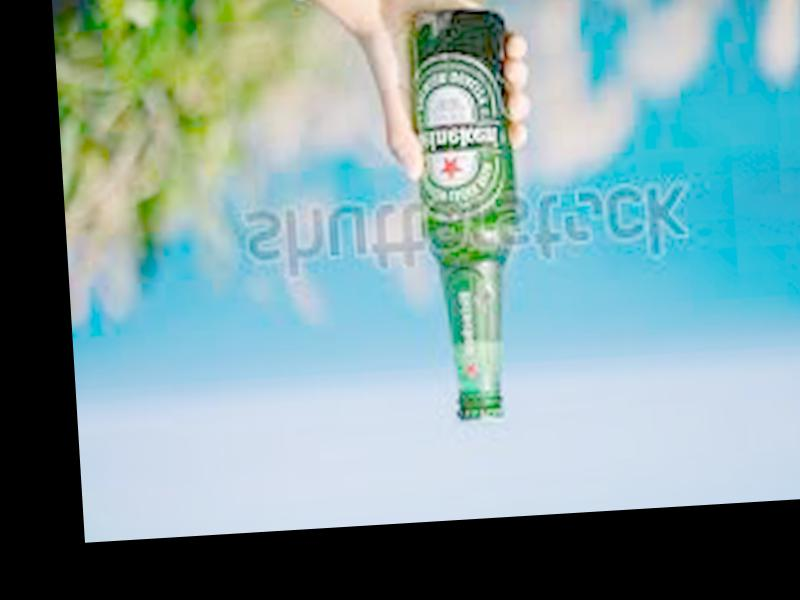Beer: (403, 11, 529, 425)
